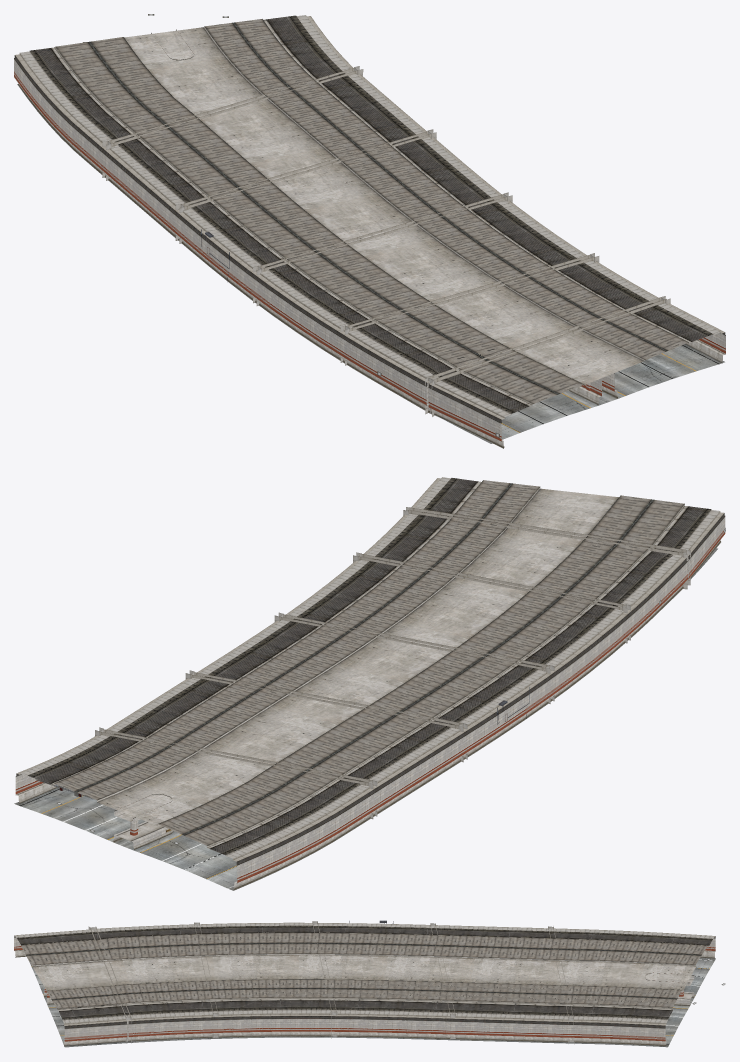
File: game-ready_extra_low_poly_tileable_road_tunnel_v.glb
3 views of the same model, one above another, from view 1: azimuth 30°, elevation 25°; view 2: azimuth 150°, elevation 25°; view 3: azimuth 270°, elevation 25° (orthographic). The views are drawn at different scales.
Parts seen in each view (by area): view 1: 72_E9_C4_88_10; view 2: 72_E9_C4_88_10; view 3: 72_E9_C4_88_10.
Boxes of the visible parts, <box> form: 72_E9_C4_88_10: <box>14,15,725,448</box>; 72_E9_C4_88_10: <box>14,477,725,890</box>; 72_E9_C4_88_10: <box>14,921,715,1047</box>.
Bounding box in the file's own units: 51.53 × 6.48 × 146.
20 materials, 20 textured.
